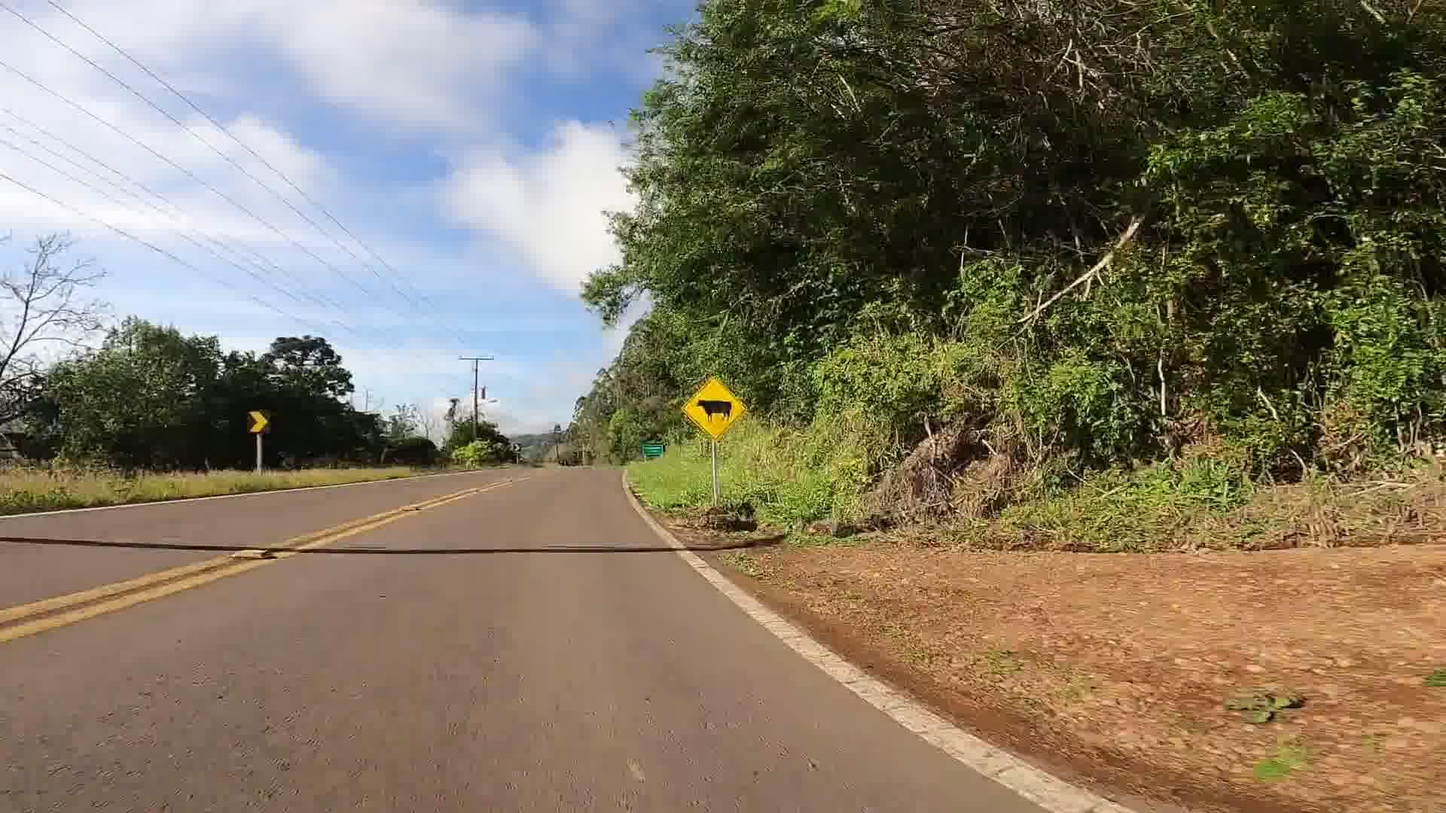A-35: (679, 374, 752, 445)
